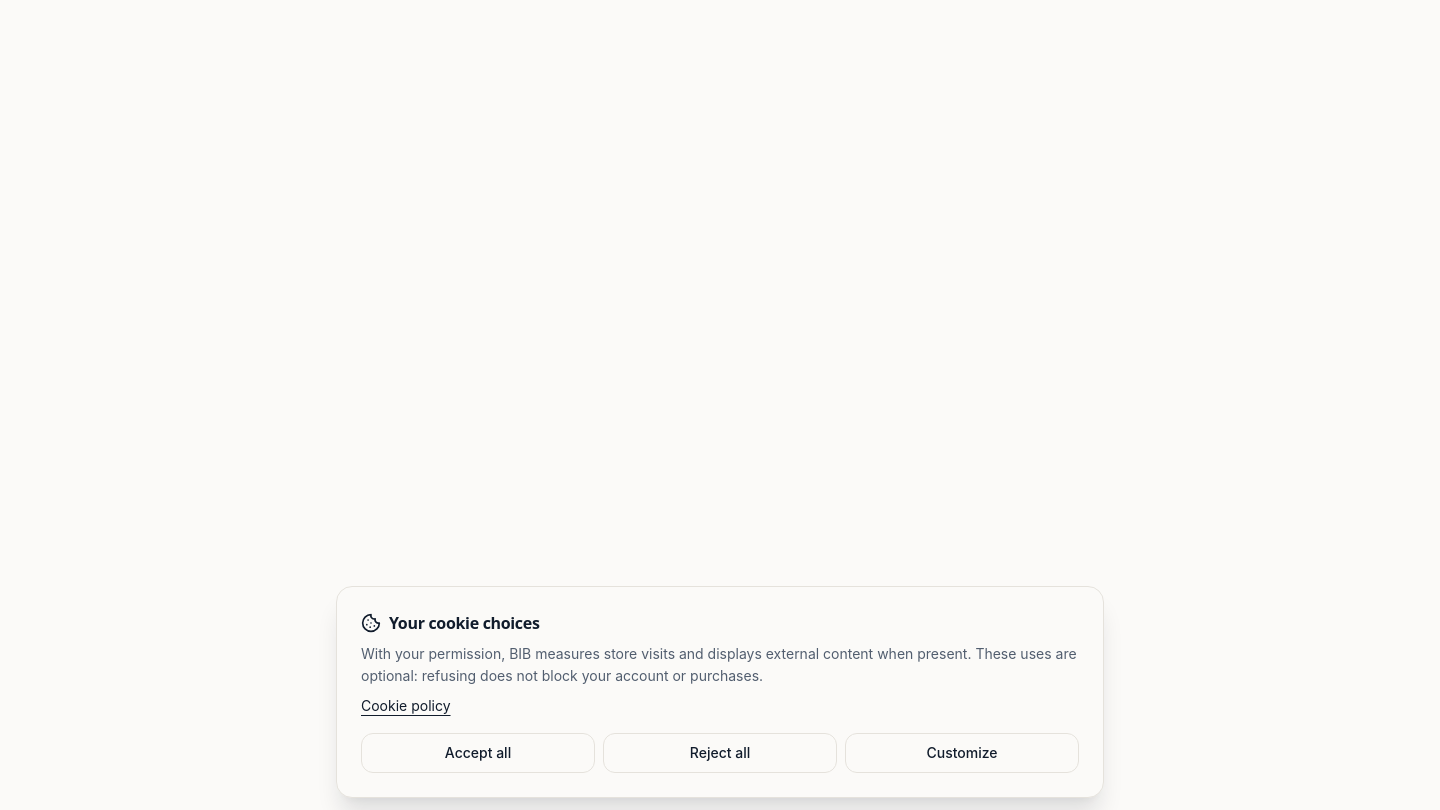
Test: Cookie consent user choices › reacts to the interface language without translating merchant content
This screenshot has width=1440, height=810.
Expected: the button "Reject all" is shown, [603,733,837,773]
Click the button "Customize": coordinates (962, 753) [845,733,1079,773]
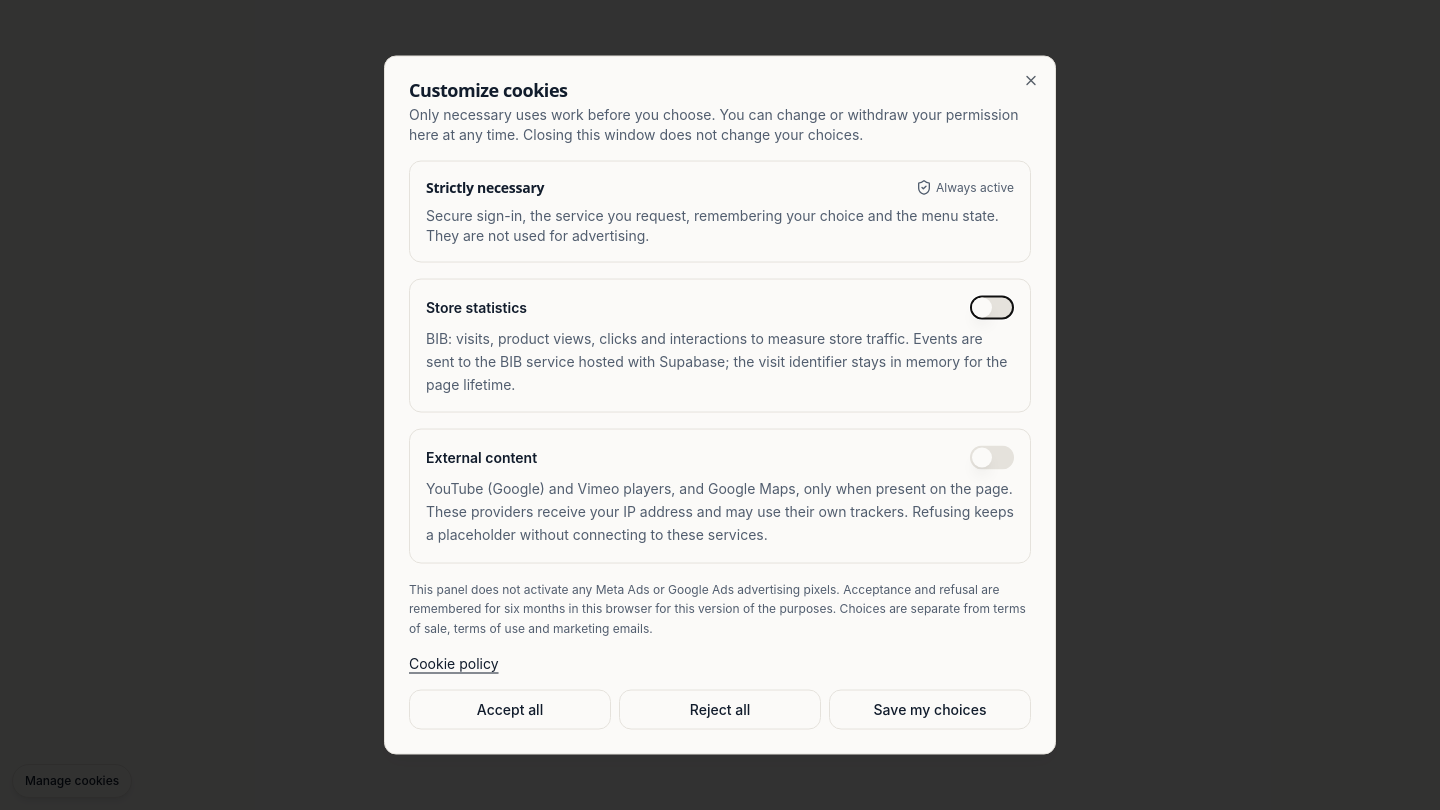
Now the switch named "External content" in the row of "External content" is not checked, box [970,446,1014,470]
